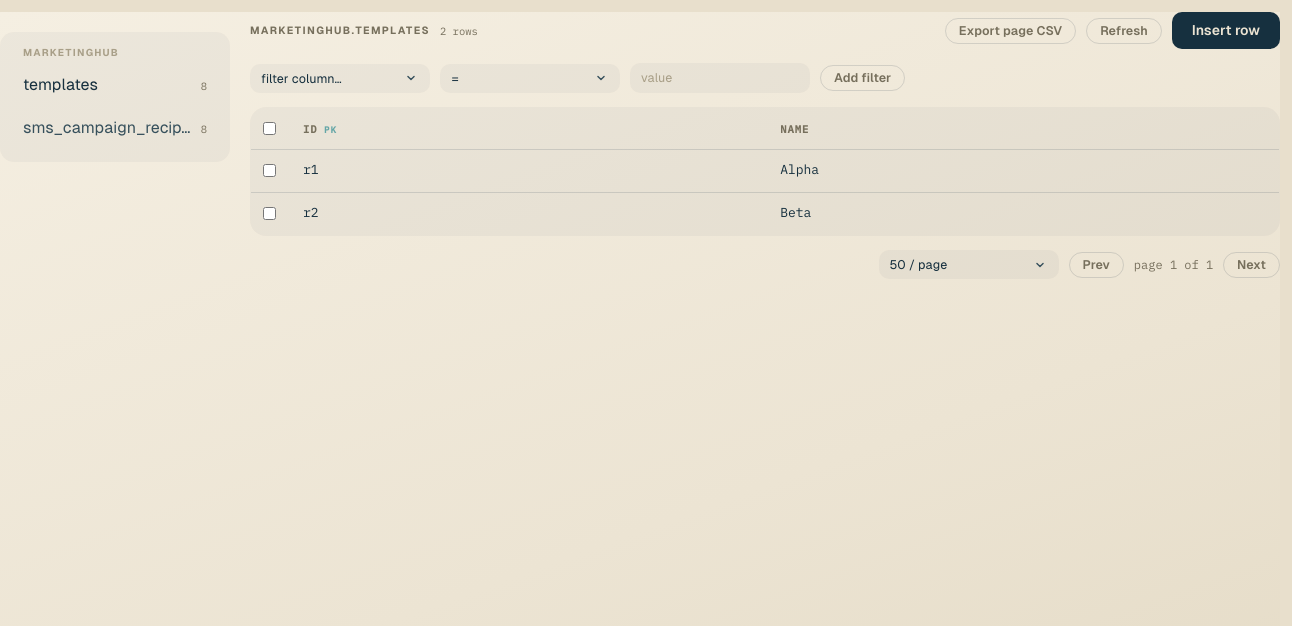
Test: TableEditor › browsing a sensitive table shows NO banner (guard moved to the write)
Check: the text "Alpha" is shown, box [764,150,1279,192]
Click the button "sms_campaign_recipients 8" at (115, 128), box [11,108,219,147]
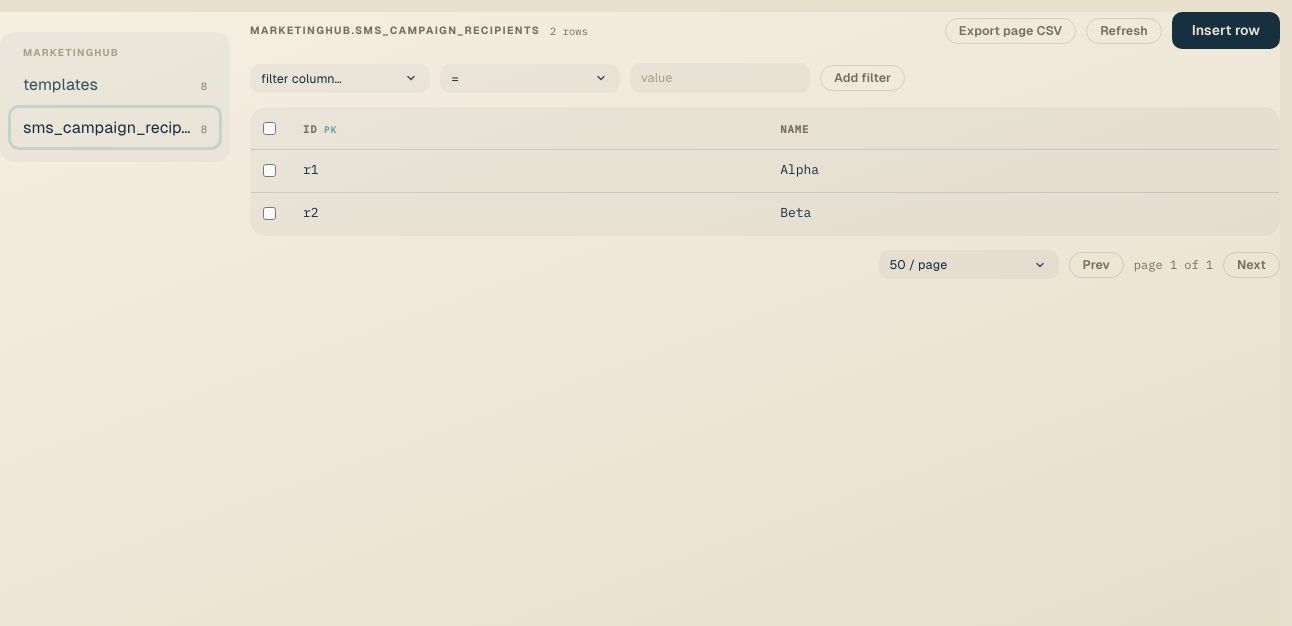
Check: the text "marketinghub.sms_campaign_recipients" is shown, box [250,24,540,37]
